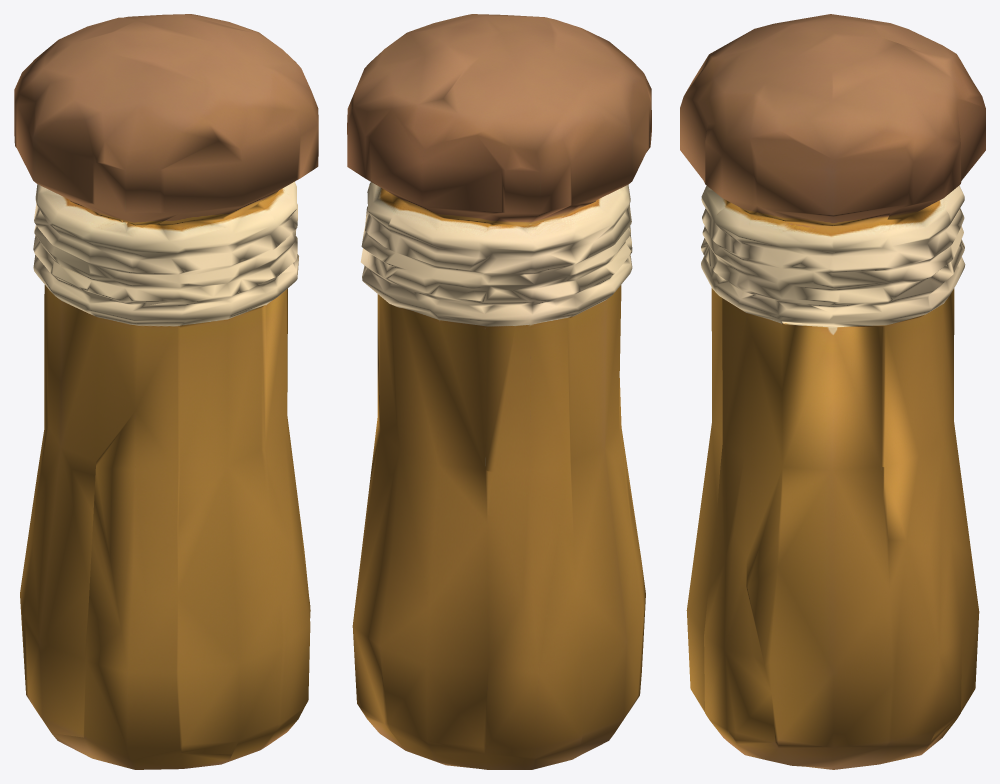
The model's file is fence_post.glb.
3 views of the same model, side by side, from view 1: azimuth 30°, elevation 25°; view 2: azimuth 150°, elevation 25°; view 3: azimuth 270°, elevation 25° (orthographic).
Visible parts, largest first — view 1: mesh_node; view 2: mesh_node; view 3: mesh_node.
Part boxes in pixels (box(x1,y1,x2,y2)): mesh_node: box(14, 14, 318, 769); mesh_node: box(347, 14, 651, 769); mesh_node: box(680, 14, 985, 769).
Bounding box in the file's own units: 0.7386 × 1.9 × 0.7384.
Materials: 1 (1 with a texture image).
